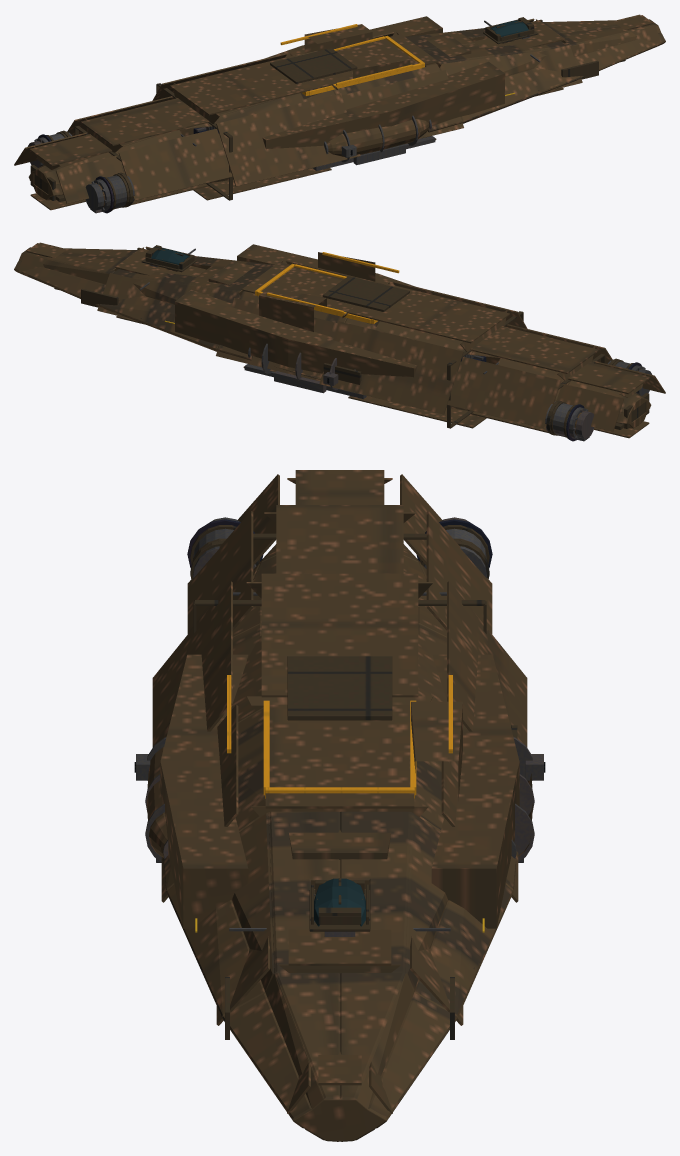
Rendered from ore_barge_production_v1_lod1.glb.
3 renders of one model, top to bottom at view 1: azimuth 30°, elevation 25°; view 2: azimuth 150°, elevation 25°; view 3: azimuth 270°, elevation 25°, orthographic. The views are drawn at different scales.
Parts seen in each view (by area): view 1: LOD1_Hull, LOD1_Armor, LOD1_Mechanical, LOD1_Warning, LOD1_Canopy; view 2: LOD1_Hull, LOD1_Armor, LOD1_Mechanical, LOD1_Warning, LOD1_Canopy; view 3: LOD1_Hull, LOD1_Armor, LOD1_Mechanical, LOD1_Warning, LOD1_Canopy.
Boxes of the visible parts, x1=… form: LOD1_Hull: x1=14, y1=14, x2=665, y2=210; LOD1_Armor: x1=30, y1=17, x2=625, y2=210; LOD1_Mechanical: x1=27, y1=20, x2=540, y2=213; LOD1_Warning: x1=280, y1=24, x2=424, y2=95; LOD1_Canopy: x1=490, y1=20, x2=528, y2=37; LOD1_Hull: x1=14, y1=242, x2=665, y2=438; LOD1_Armor: x1=54, y1=245, x2=649, y2=438; LOD1_Mechanical: x1=139, y1=248, x2=652, y2=441; LOD1_Warning: x1=255, y1=252, x2=399, y2=323; LOD1_Canopy: x1=151, y1=248, x2=189, y2=265; LOD1_Hull: x1=146, y1=470, x2=532, y2=1141; LOD1_Armor: x1=190, y1=525, x2=517, y2=1039; LOD1_Mechanical: x1=136, y1=517, x2=543, y2=936; LOD1_Warning: x1=227, y1=675, x2=452, y2=798; LOD1_Canopy: x1=314, y1=878, x2=365, y2=926.
Size of what is drawn, in the model's own units: 18.56 by 2.75 by 5.38.
9 materials, 9 textured.
